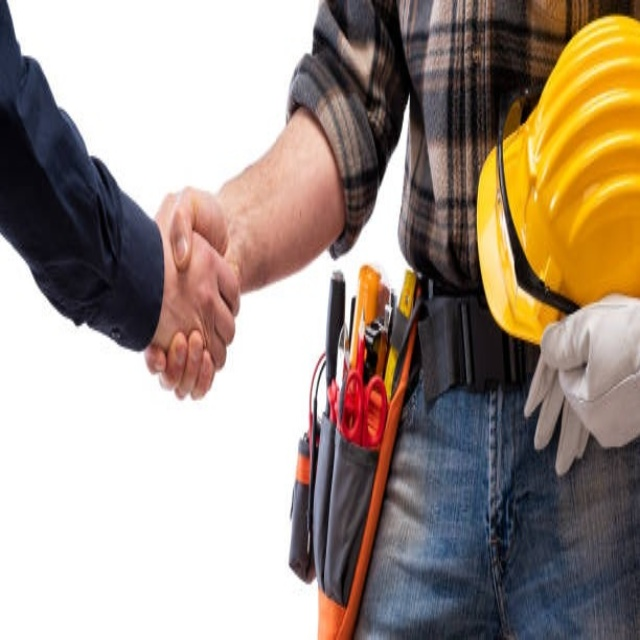Guantes: (522, 279, 637, 479)
Sin_guantes: (144, 181, 242, 397)
